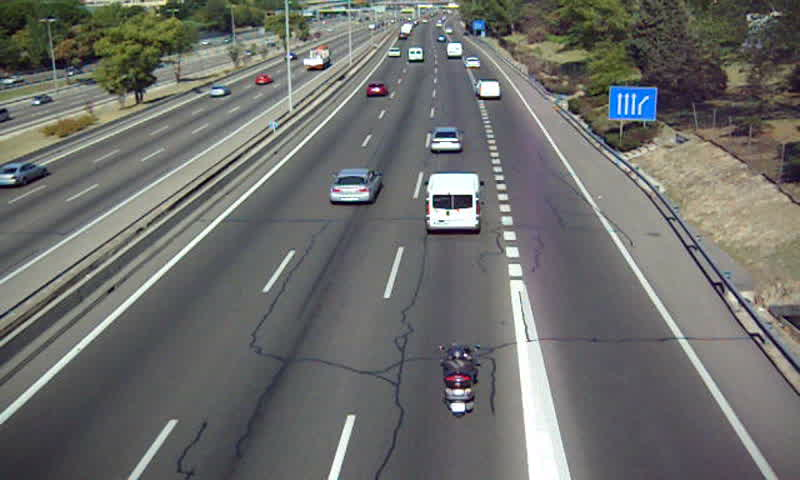car: (327, 169, 382, 204), (428, 127, 464, 154), (366, 82, 388, 97), (464, 56, 481, 69)
motorcycle: (440, 343, 481, 416)
van: (425, 173, 481, 234), (474, 78, 501, 99), (407, 46, 424, 62)
